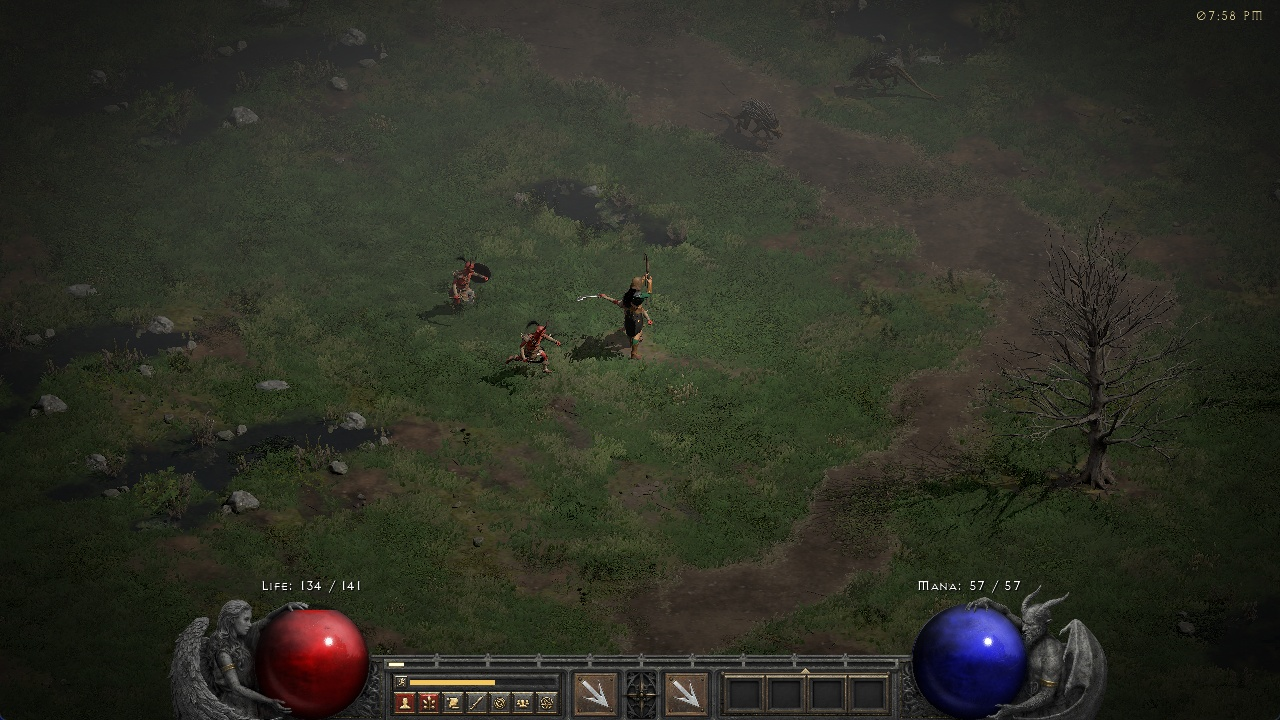fallen: (502, 319, 566, 376), (443, 254, 493, 311)
